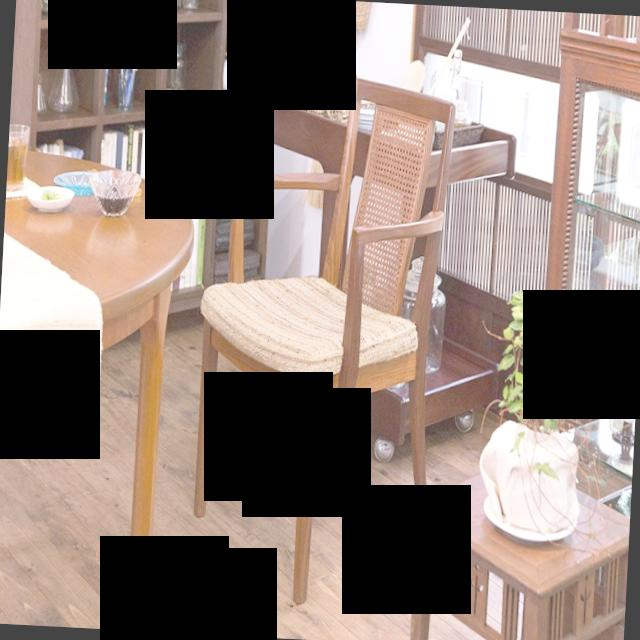chair vintage: (184, 68, 463, 611)
